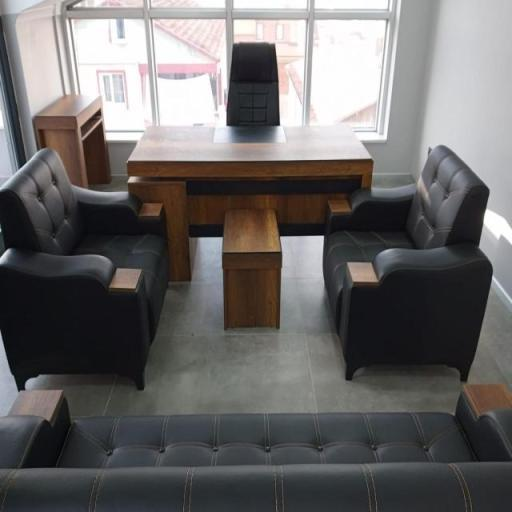sofa: (304, 128, 512, 393), (0, 143, 203, 391)
